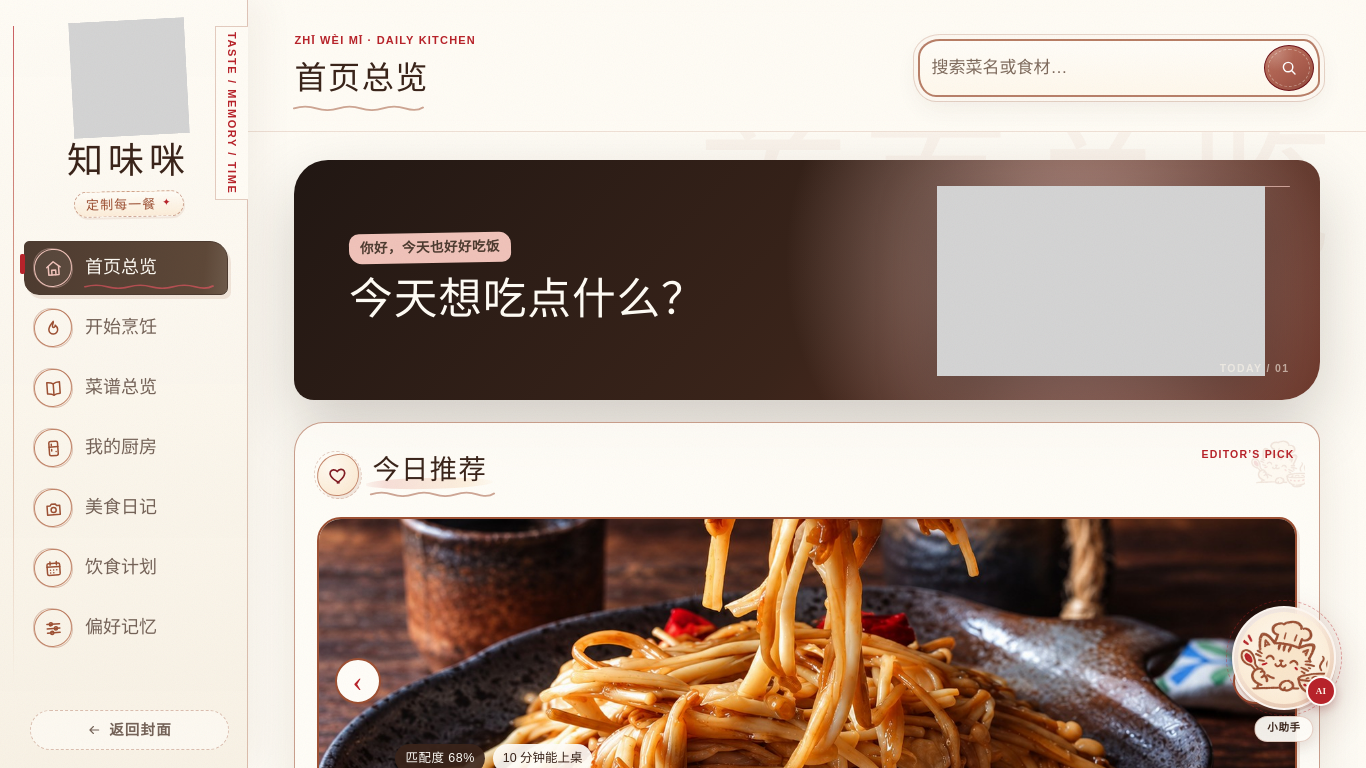
Test: 阶段8：首页日记摘要来自本地数据
Click the link "美食日记": {"x": 95, "y": 508} [33, 488, 157, 528]
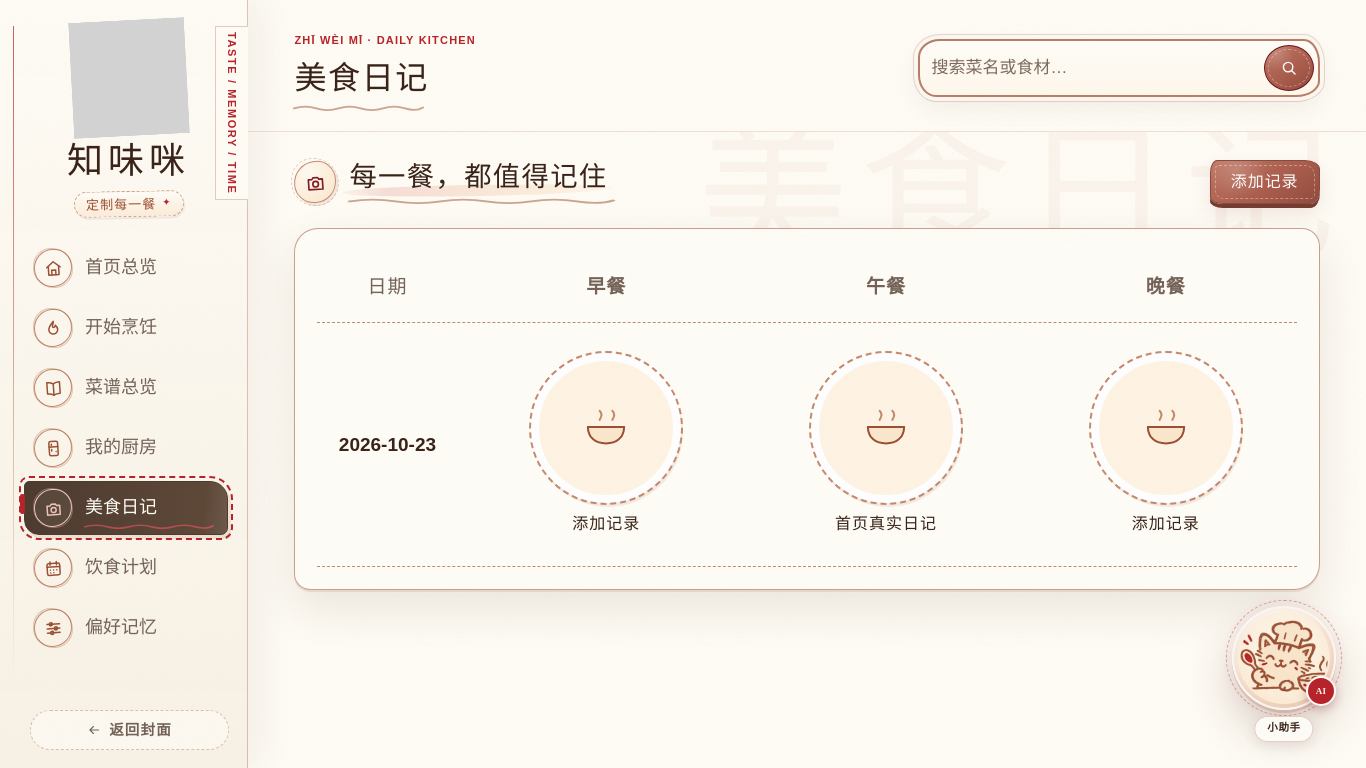
Expected: the heading "每一餐，都值得记住" is shown, [294, 160, 610, 204]
